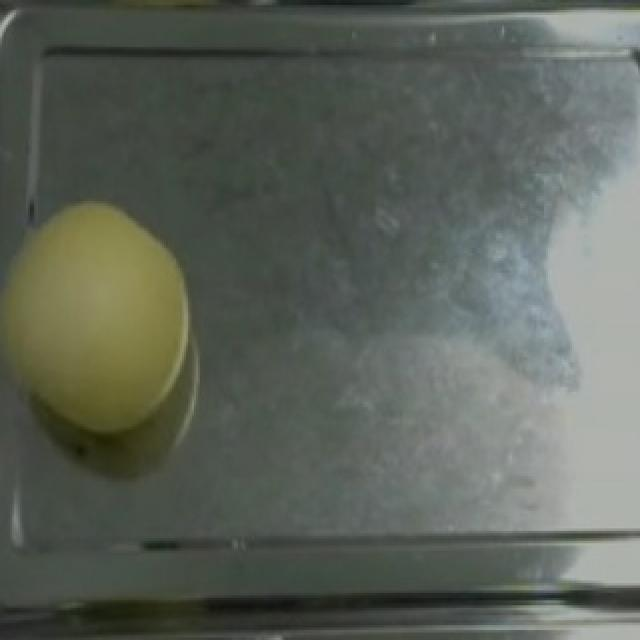Fruit: (2, 178, 208, 452)
